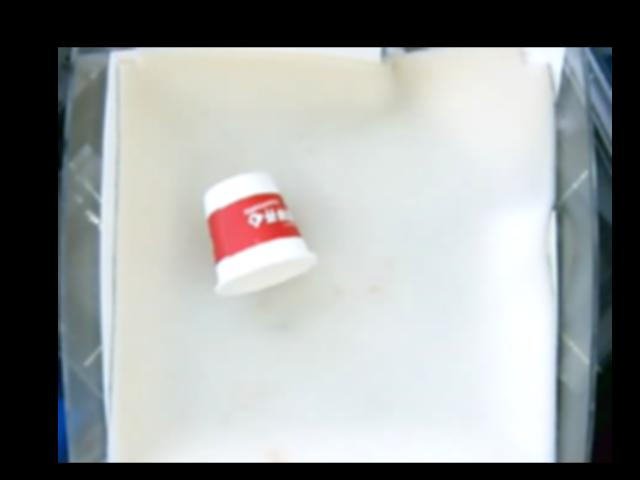Cup: (206, 170, 317, 299)
